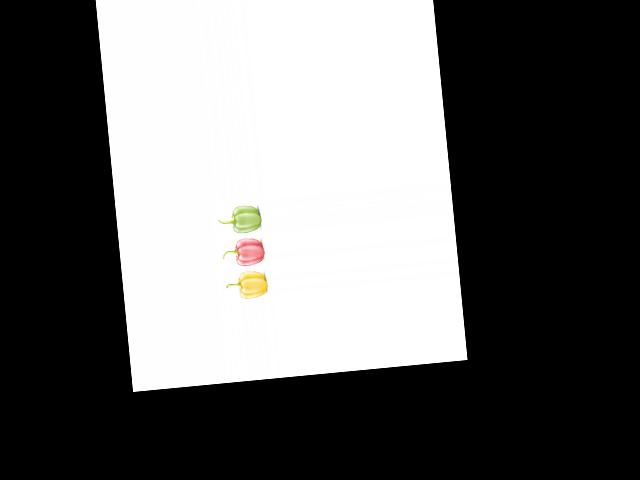bell_pepper: (217, 200, 264, 235)
